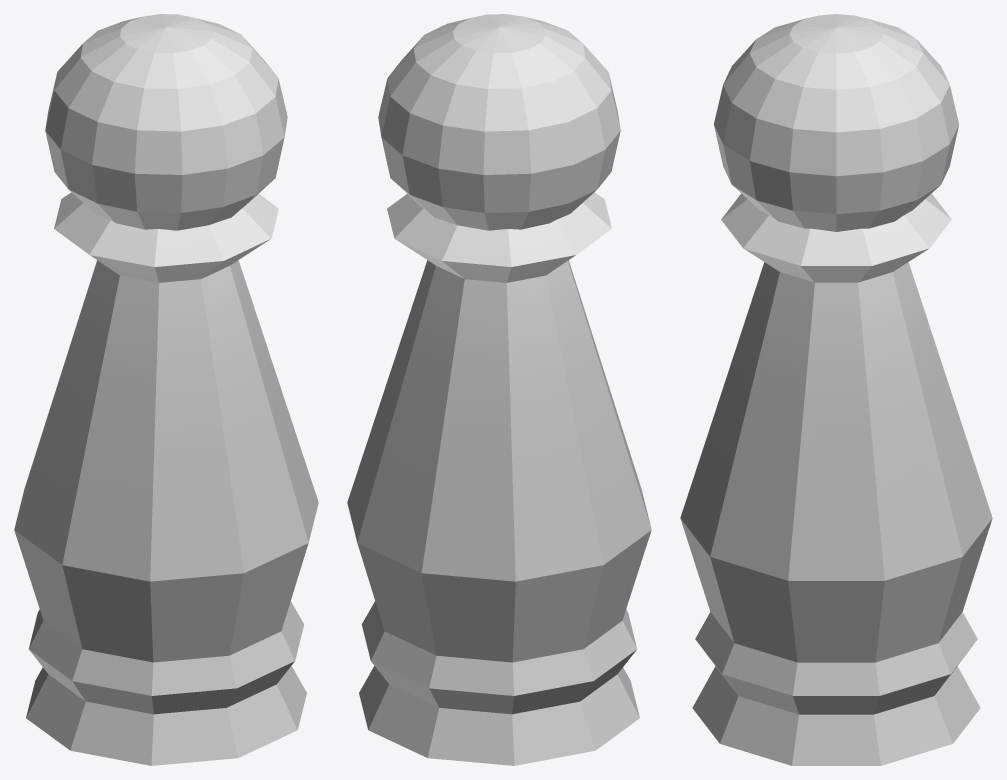
Rendered from pion echec 2 (1).fbx.
The picture shows the model from 3 angles, left to right: view 1: azimuth 30°, elevation 25°; view 2: azimuth 150°, elevation 25°; view 3: azimuth 270°, elevation 25°; orthographic projection.
Parts seen in each view (by area): view 1: Cylinder.005; view 2: Cylinder.005; view 3: Cylinder.005.
Boxes of the visible parts, x1,y1,x2,y2 form: Cylinder.005: (14, 14, 318, 765); Cylinder.005: (347, 14, 651, 765); Cylinder.005: (680, 14, 992, 765).
Bounding box in the file's own units: 16.06 × 16.89 × 40.59.
